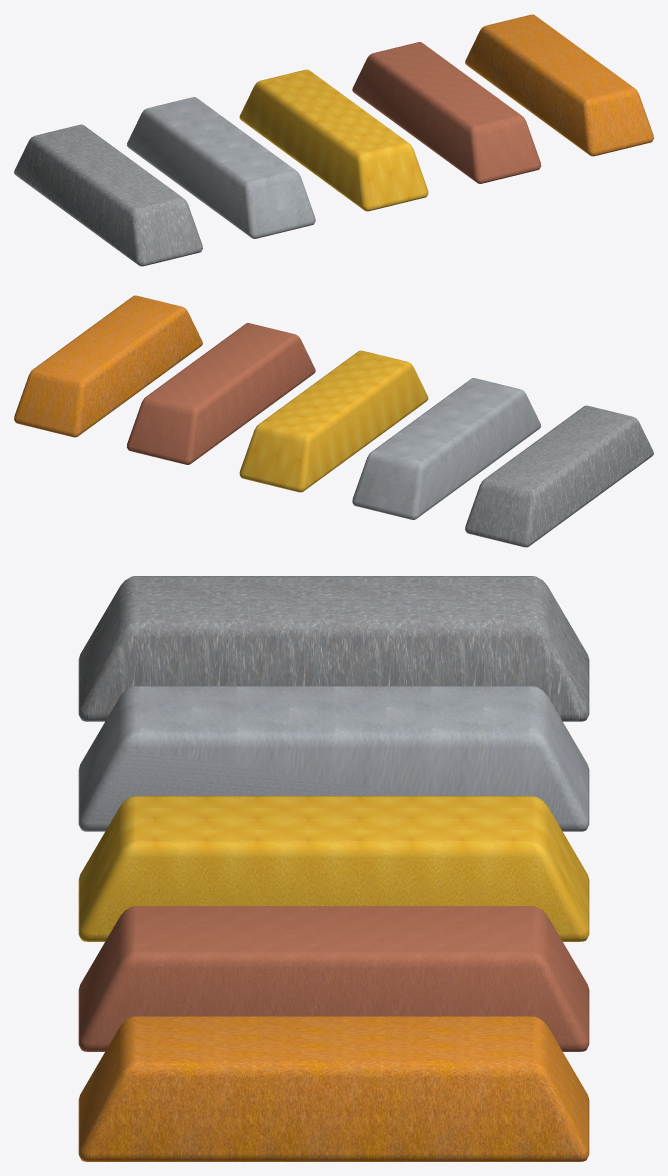
The model's file is Lead_Ingot.FBX.
3 views of the same model, one above another, from view 1: azimuth 30°, elevation 25°; view 2: azimuth 150°, elevation 25°; view 3: azimuth 270°, elevation 25° (orthographic). The views are drawn at different scales.
Visible parts, largest first — view 1: Gold, Bronze, Lead, Steel, Copper; view 2: Gold, Bronze, Lead, Steel, Copper; view 3: Bronze, Gold, Copper, Steel, Lead.
Boxes of the visible parts, x1,y1,x2,y2 form: Gold: (239, 69, 428, 211); Bronze: (465, 14, 653, 156); Lead: (126, 97, 315, 238); Steel: (14, 124, 202, 266); Copper: (352, 42, 541, 183); Gold: (239, 350, 428, 492); Bronze: (14, 295, 202, 437); Lead: (352, 378, 541, 519); Steel: (465, 405, 653, 547); Copper: (126, 323, 315, 464); Bronze: (78, 1016, 589, 1161); Gold: (78, 796, 589, 941); Copper: (78, 906, 589, 1051); Steel: (78, 576, 589, 721); Lead: (78, 686, 589, 831).
Size of the model in its own units: 45.85 by 4 by 19.62.
5 materials, 5 textured.
